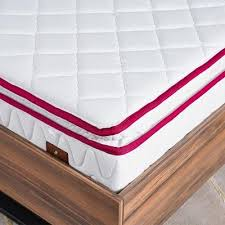bed-matress: (1, 1, 225, 191)
